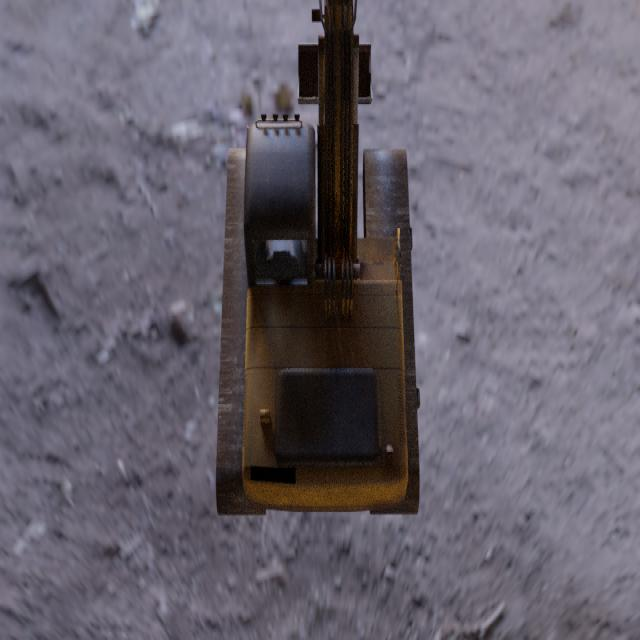excavator: (215, 0, 420, 517)
